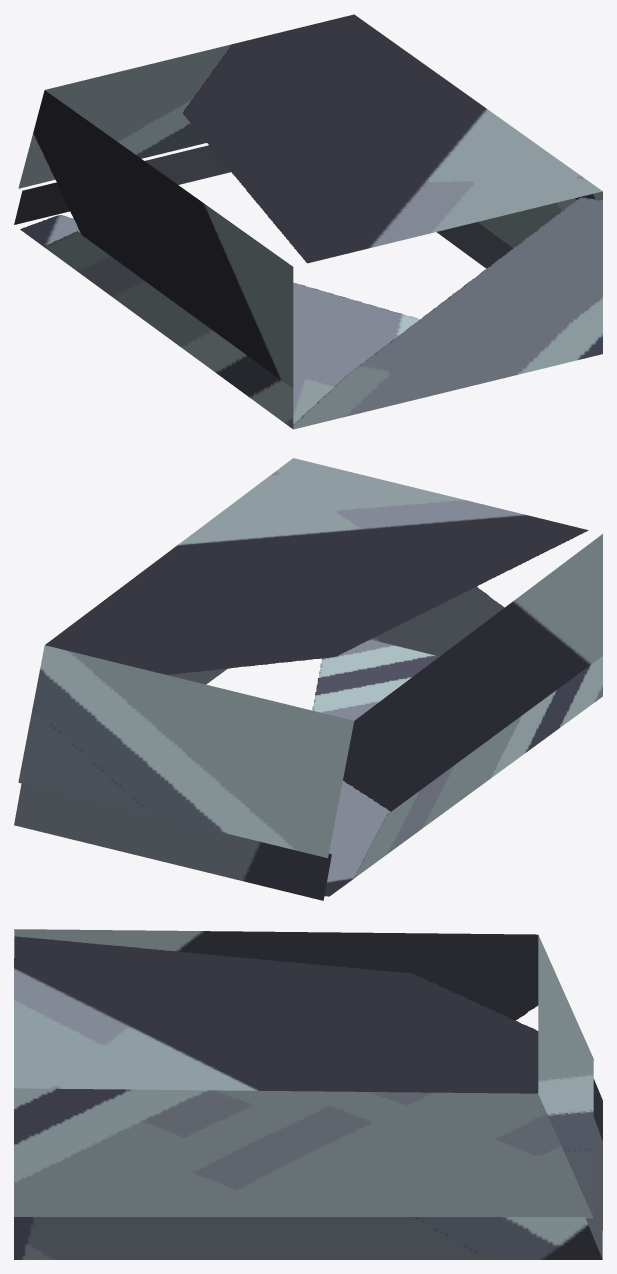
The model's file is ss8_carport_link_lh.obj.
The picture shows the model from 3 angles, top to bottom: view 1: azimuth 30°, elevation 25°; view 2: azimuth 150°, elevation 25°; view 3: azimuth 270°, elevation 25°; orthographic projection. The views are drawn at different scales.
Parts seen in each view (by area): view 1: cube_selection_selection_selection_selection_selection_selection; view 2: cube_selection_selection_selection_selection_selection_selection; view 3: cube_selection_selection_selection_selection_selection_selection.
Part boxes in pixels (x1=…): cube_selection_selection_selection_selection_selection_selection: x1=14, y1=14, x2=602, y2=429; cube_selection_selection_selection_selection_selection_selection: x1=14, y1=458, x2=602, y2=900; cube_selection_selection_selection_selection_selection_selection: x1=14, y1=929, x2=602, y2=1259.
Bounding box in the file's own units: 1 × 0.5022 × 1.56.
